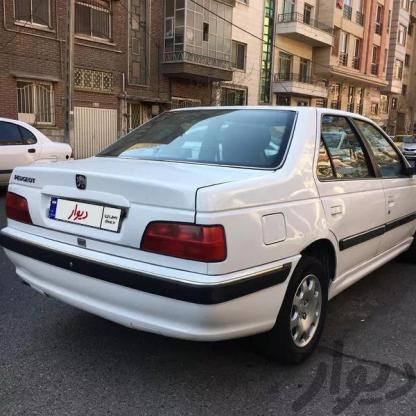Car: (0, 106, 416, 341), (0, 121, 70, 191), (402, 126, 416, 176)
